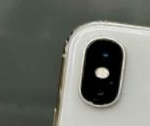scratch: (82, 94, 116, 114)
